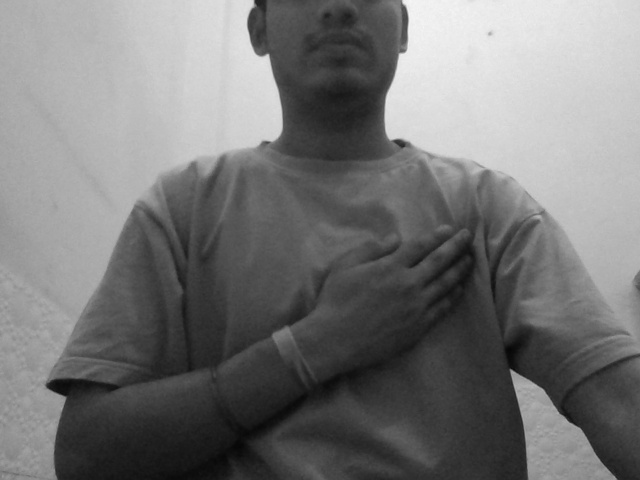Sorry: (314, 196, 499, 387)
